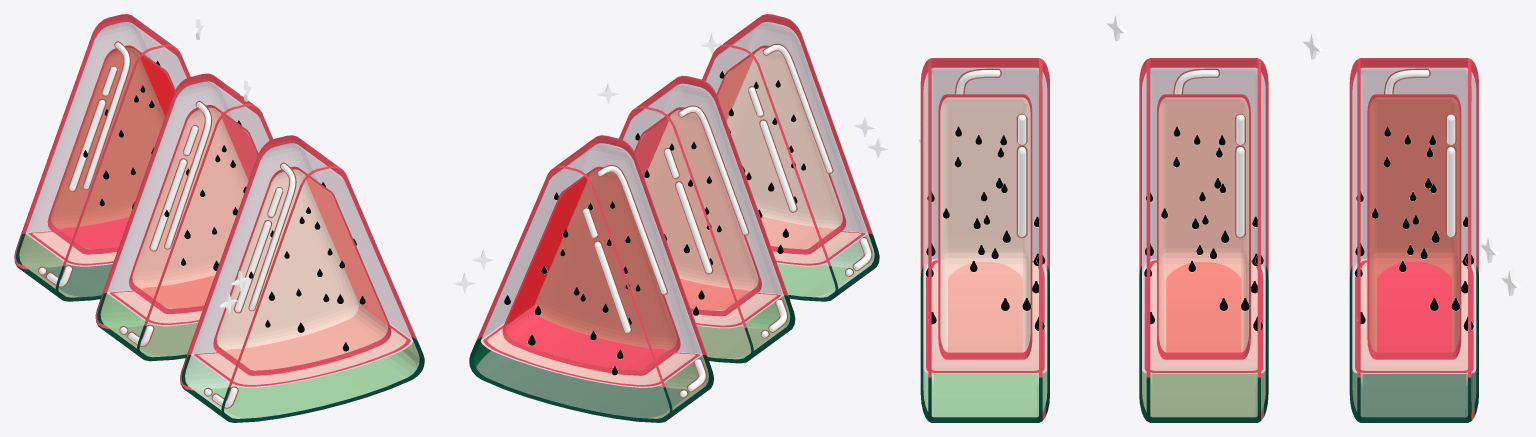
The model's file is wat2.gltf.
3 renders of one model, left to right at view 1: azimuth 30°, elevation 25°; view 2: azimuth 150°, elevation 25°; view 3: azimuth 270°, elevation 25°, orthographic. The views are drawn at different scales.
Parts seen in each view (by area): view 1: Object_22, Object_8, Object_18, Object_4, Object_7, Object_6, Object_17, Object_13, Object_16, Object_12, Object_3, Object_15 (+5 smaller); view 2: Object_7, Object_22, Object_8, Object_18, Object_4, Object_2, Object_17, Object_13, Object_16, Object_12, Object_6, Object_15 (+6 smaller); view 3: Object_18, Object_22, Object_7, Object_8, Object_4, Object_17, Object_16, Object_2, Object_6, Object_3, Object_12, Object_21 (+6 smaller).
Part boxes in pixels (x1,y1,x2,y2): Object_22: (25, 22, 412, 387); Object_8: (216, 169, 387, 370); Object_18: (14, 14, 417, 390); Object_4: (132, 107, 257, 308); Object_7: (51, 48, 174, 249); Object_6: (185, 341, 419, 418); Object_17: (32, 232, 406, 384); Object_13: (47, 42, 295, 407); Object_16: (14, 233, 424, 422); Object_12: (39, 66, 282, 395); Object_3: (100, 293, 197, 357); Object_15: (46, 41, 296, 408); Object_7: (506, 169, 677, 370); Object_22: (481, 22, 867, 387); Object_8: (717, 48, 842, 249); Object_18: (476, 14, 872, 387); Object_4: (635, 110, 758, 310); Object_2: (474, 341, 708, 418); Object_17: (487, 232, 861, 384); Object_13: (598, 45, 871, 391); Object_16: (469, 233, 879, 422); Object_12: (583, 87, 852, 396); Object_6: (777, 233, 874, 297); Object_15: (597, 43, 872, 392); Object_18: (920, 58, 1478, 420); Object_22: (923, 67, 1476, 373); Object_7: (1369, 97, 1459, 352); Object_8: (940, 97, 1030, 352); Object_4: (1158, 97, 1248, 352); Object_17: (931, 262, 1467, 370); Object_16: (920, 266, 1478, 422); Object_2: (1352, 369, 1476, 417); Object_6: (923, 369, 1047, 417); Object_3: (1142, 370, 1265, 417); Object_12: (1018, 114, 1455, 236); Object_21: (925, 126, 1045, 330).
Bounding box in the file's own units: 1.02 × 1.29 × 1.97.
Materials: 15 (6 with a texture image).
